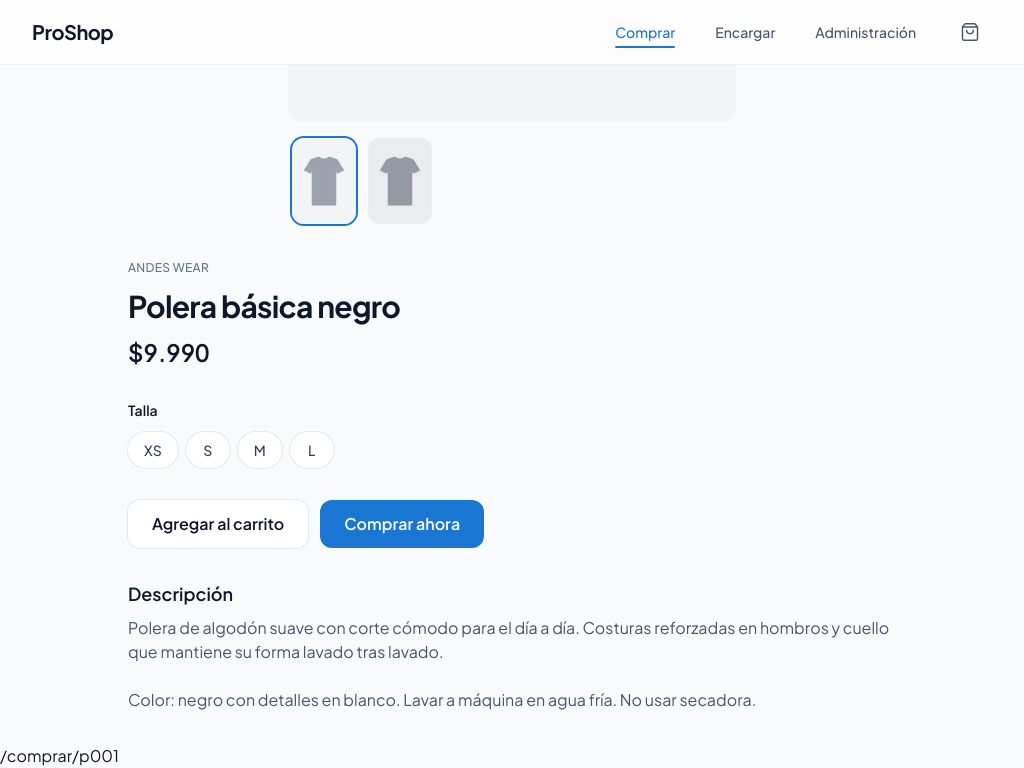
it: Carrito › al agregar desde el detalle el badge suma 1 y se abre el drawer con ese producto
This screenshot has width=1024, height=768.
(page scrolled)
Expected: the heading "Polera básica negro" is shown, [128,287,400,325]
Click the button named "Talla M" at (260, 450), box [238,432,282,468]
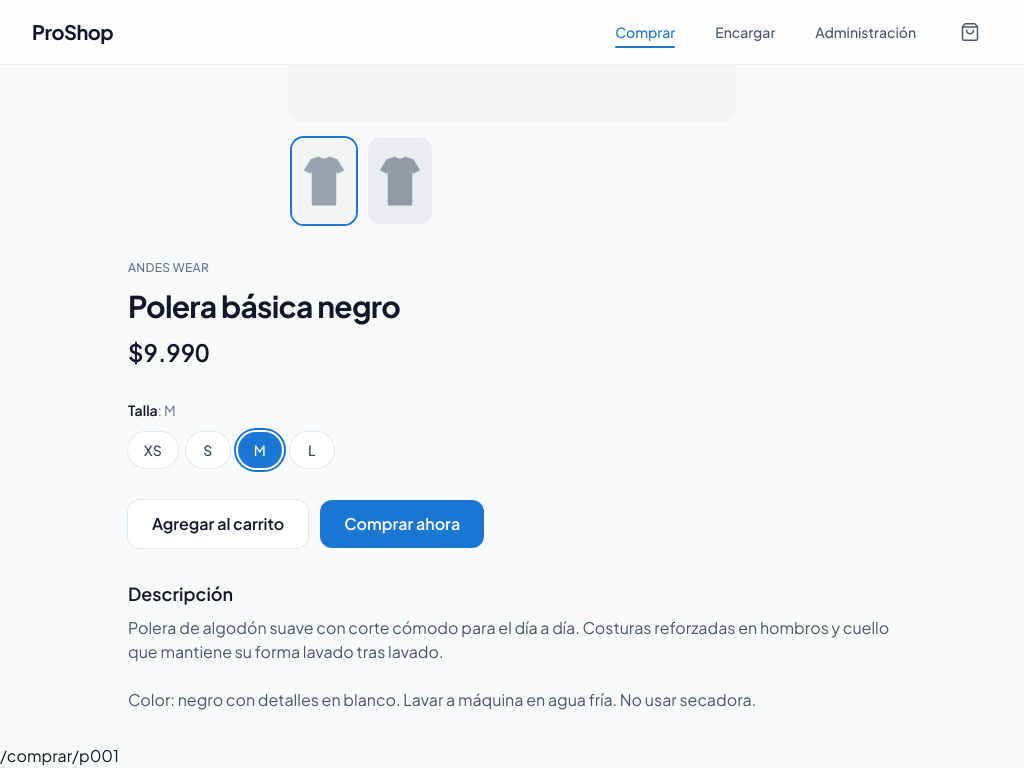
Click the button "Agregar al carrito" at (218, 524), box [128,500,308,548]
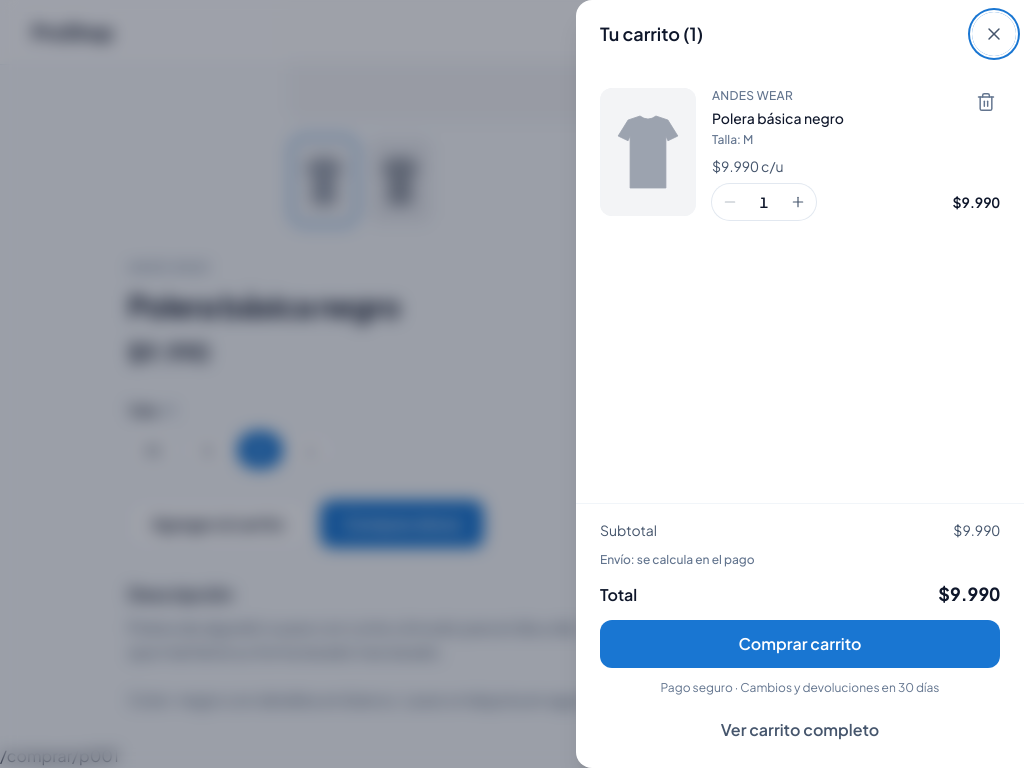
Expected: the text "Polera básica negro" is shown, [712,108,844,128]
Expected: the text "Talla: M" is shown, [712,132,753,147]
